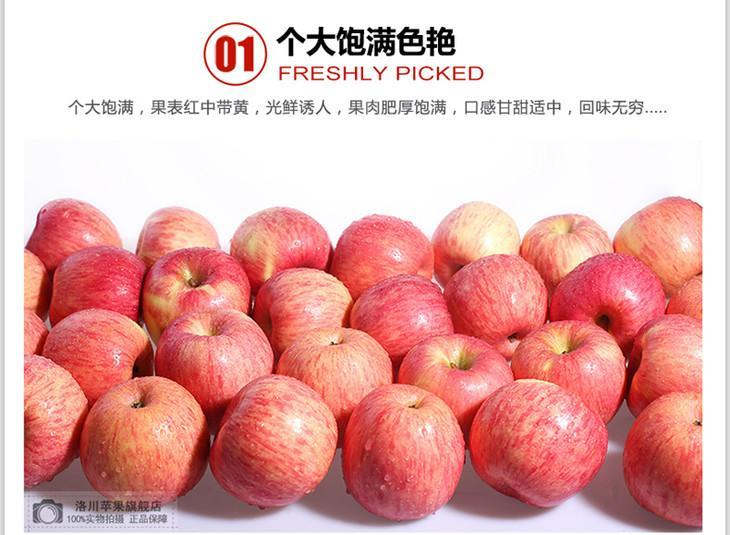apple: (468, 377, 611, 507), (339, 382, 465, 522), (209, 376, 341, 506), (79, 376, 210, 506), (278, 326, 393, 433), (38, 307, 156, 409), (155, 308, 273, 410), (547, 249, 667, 349), (507, 318, 627, 418), (393, 332, 513, 432), (621, 390, 704, 525), (348, 273, 450, 365), (611, 191, 701, 295), (445, 254, 546, 346), (45, 247, 151, 327), (143, 247, 249, 327), (228, 206, 332, 283), (330, 215, 434, 292), (251, 268, 350, 348), (25, 197, 122, 275), (431, 200, 520, 267), (522, 214, 611, 281), (128, 205, 221, 265)
